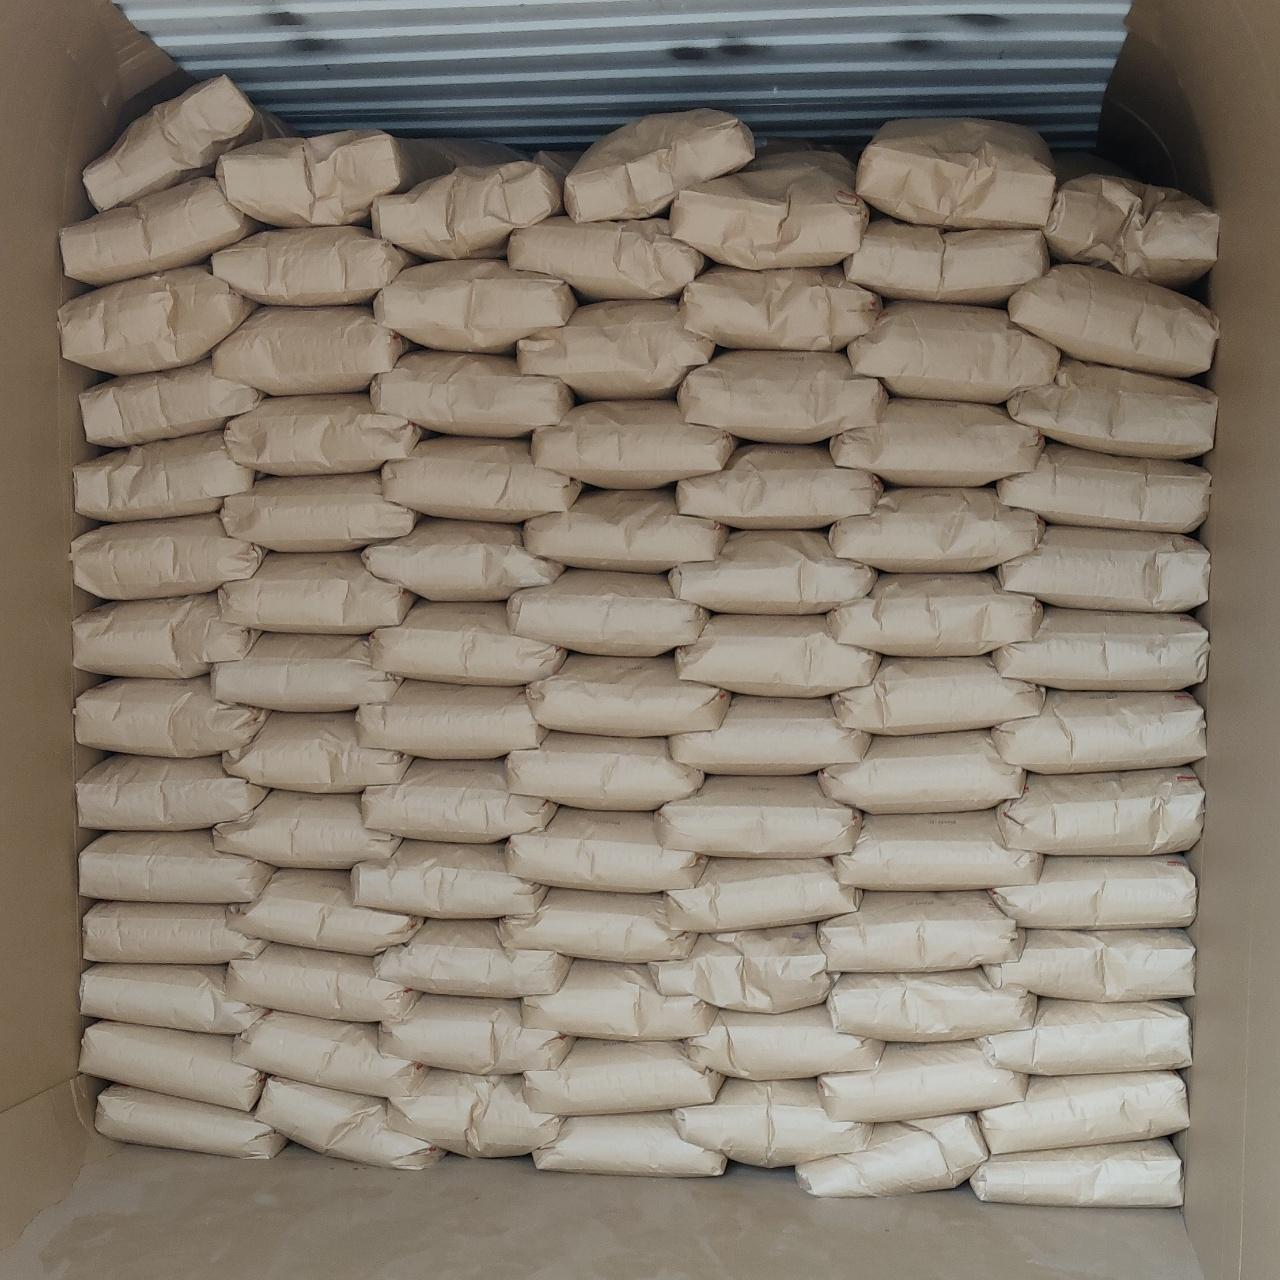sack: (216, 130, 518, 227), (83, 75, 293, 210), (669, 152, 868, 269), (1008, 266, 1217, 377), (61, 176, 262, 285), (60, 265, 257, 374), (858, 120, 1055, 229), (847, 302, 1059, 403), (565, 109, 753, 221), (1008, 359, 1217, 458), (517, 300, 715, 399), (1044, 173, 1217, 285), (997, 443, 1210, 533), (677, 351, 887, 442), (830, 397, 1043, 485), (374, 260, 577, 352), (372, 160, 560, 259), (530, 400, 737, 489), (829, 487, 1043, 572), (992, 606, 1208, 690), (998, 767, 1204, 855), (998, 526, 1208, 612), (991, 689, 1205, 773), (844, 217, 1050, 304), (828, 573, 1042, 656), (211, 306, 410, 395), (507, 568, 709, 655), (676, 445, 883, 529), (371, 350, 575, 435), (672, 1079, 868, 1167), (669, 531, 876, 614), (655, 775, 862, 858), (980, 1072, 1189, 1154), (381, 437, 582, 522), (254, 1077, 441, 1168), (820, 730, 1025, 813), (506, 807, 705, 892), (832, 810, 1043, 890), (525, 490, 727, 573), (679, 266, 881, 349), (832, 657, 1045, 735), (820, 1041, 1027, 1121), (230, 869, 422, 955), (71, 514, 265, 599), (74, 430, 255, 521), (369, 600, 565, 684), (819, 891, 1022, 972), (82, 356, 264, 446), (527, 655, 729, 736), (675, 615, 879, 695), (224, 394, 425, 475), (362, 519, 563, 600), (507, 217, 705, 299), (211, 226, 416, 305), (978, 999, 1191, 1075), (361, 759, 556, 842), (81, 1022, 262, 1111), (73, 592, 260, 678), (669, 695, 870, 775), (219, 471, 417, 552), (73, 675, 268, 757), (232, 1012, 427, 1094), (797, 1114, 988, 1197), (218, 552, 413, 633), (505, 731, 704, 810), (384, 1069, 561, 1157), (652, 925, 831, 1012), (379, 994, 573, 1074), (826, 968, 1036, 1041), (522, 960, 716, 1039), (683, 1004, 884, 1080), (985, 929, 1194, 1002), (351, 840, 546, 918), (375, 919, 570, 997), (523, 1039, 722, 1115), (356, 680, 548, 758), (499, 887, 698, 962), (223, 712, 409, 792), (211, 633, 401, 711), (992, 854, 1195, 927), (226, 943, 420, 1019), (970, 1138, 1183, 1207), (664, 858, 859, 933), (213, 790, 400, 868), (77, 755, 268, 830), (80, 830, 273, 902), (95, 1085, 285, 1158), (81, 964, 263, 1035), (533, 1112, 725, 1176), (83, 902, 267, 964)
